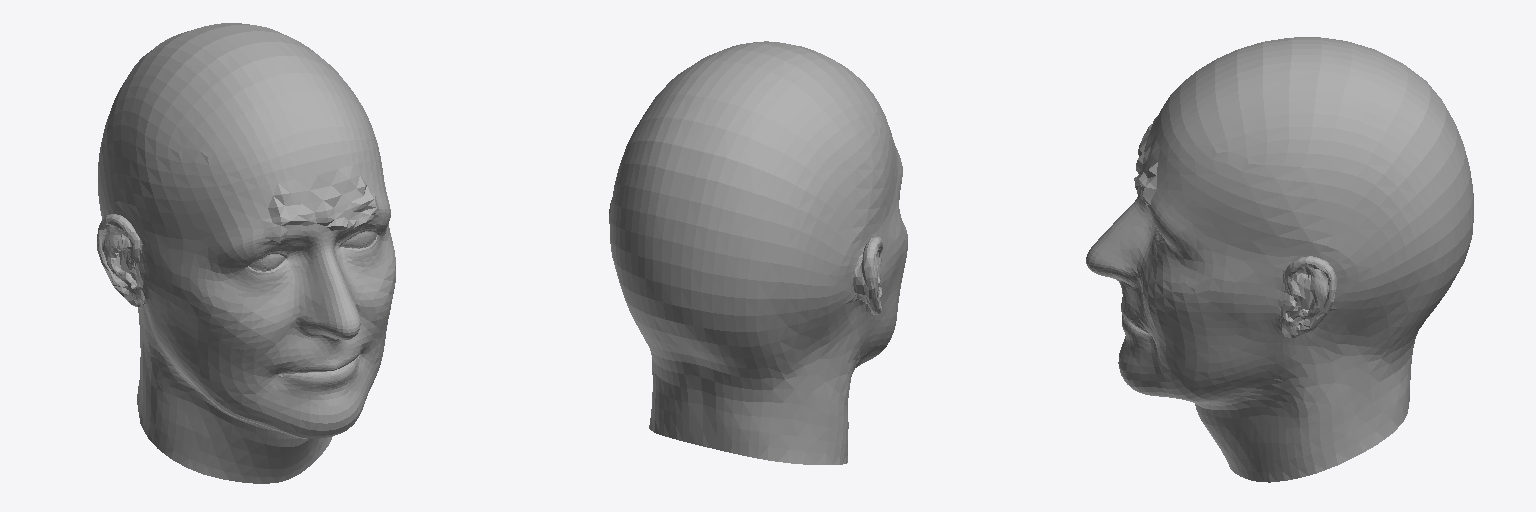
The model's file is White Girl Face4.obj.
The picture shows the model from 3 angles: view 1: azimuth 30°, elevation 25°; view 2: azimuth 150°, elevation 25°; view 3: azimuth 270°, elevation 25°; orthographic projection.
Parts seen in each view (by area): view 1: HeadHires; view 2: HeadHires; view 3: HeadHires.
Part boxes in pixels (x1,y1,x2,y2): HeadHires: (97, 23, 395, 483); HeadHires: (609, 41, 907, 464); HeadHires: (1086, 37, 1473, 482).
Bounding box in the file's own units: 190 × 283 × 240.